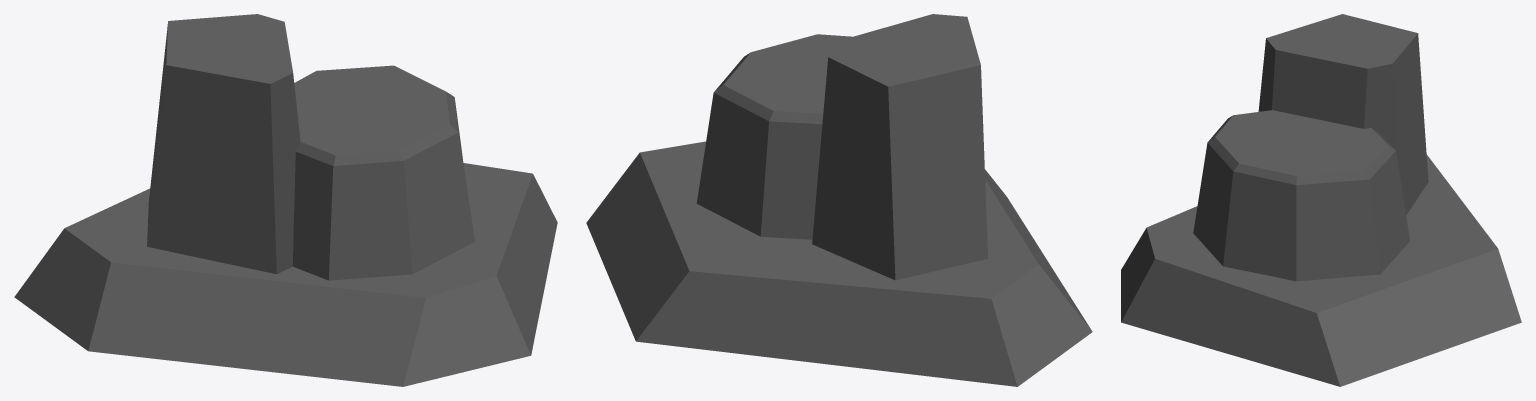
File: WastelandStone3.fbx
The picture shows the model from 3 angles, left to right: view 1: azimuth 30°, elevation 25°; view 2: azimuth 150°, elevation 25°; view 3: azimuth 270°, elevation 25°; orthographic projection. The views are drawn at different scales.
Parts seen in each view (by area): view 1: WastelandStone3Piece_4, WastelandStone3Piece_1, WastelandStone3Piece_2, WastelandStone3Piece_3; view 2: WastelandStone3Piece_4, WastelandStone3Piece_1, WastelandStone3Piece_2, WastelandStone3Piece_3; view 3: WastelandStone3Piece_3, WastelandStone3Piece_2, WastelandStone3Piece_1, WastelandStone3Piece_4.
Boxes of the visible parts, x1=… form: WastelandStone3Piece_4: x1=14, y1=188, x2=425, y2=386; WastelandStone3Piece_1: x1=147, y1=14, x2=300, y2=274; WastelandStone3Piece_2: x1=292, y1=65, x2=475, y2=280; WastelandStone3Piece_3: x1=403, y1=163, x2=557, y2=386; WastelandStone3Piece_4: x1=636, y1=169, x2=1092, y2=386; WastelandStone3Piece_1: x1=812, y1=14, x2=987, y2=280; WastelandStone3Piece_2: x1=696, y1=34, x2=852, y2=239; WastelandStone3Piece_3: x1=586, y1=141, x2=748, y2=340; WastelandStone3Piece_3: x1=1121, y1=227, x2=1521, y2=386; WastelandStone3Piece_2: x1=1193, y1=110, x2=1409, y2=281; WastelandStone3Piece_1: x1=1258, y1=14, x2=1428, y2=215; WastelandStone3Piece_4: x1=1147, y1=154, x2=1521, y2=321.
Bounding box in the file's own units: 306 × 152 × 260.
